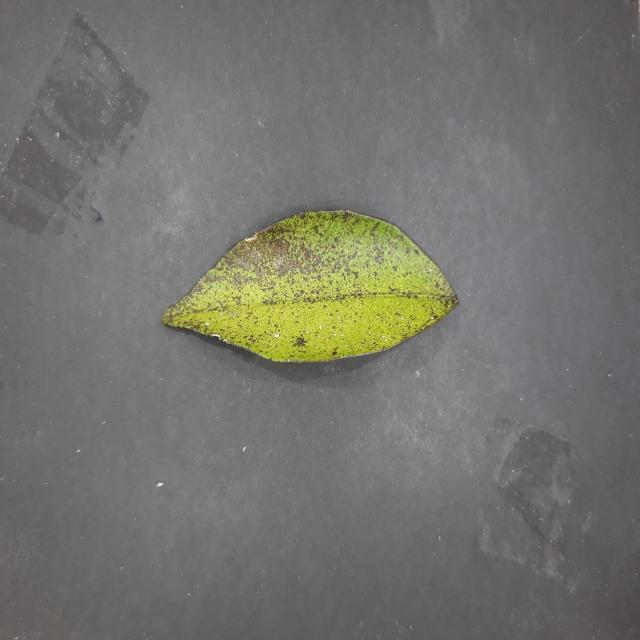greasy_spot: (162, 210, 457, 361)
